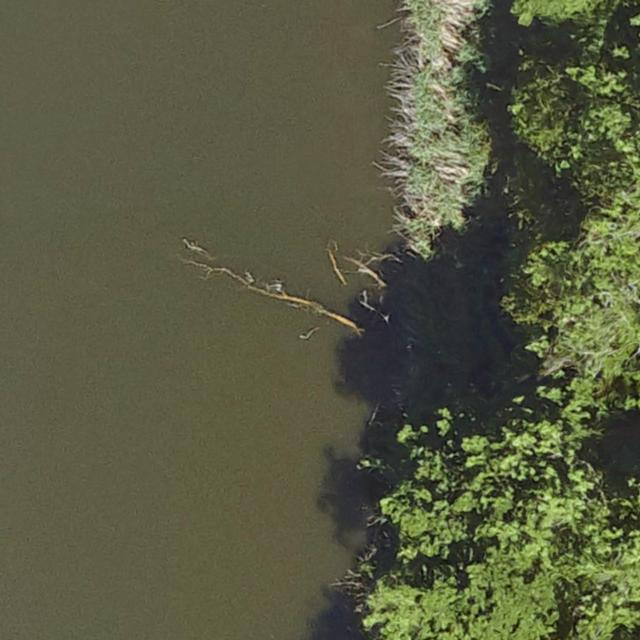tree: (360, 423, 640, 640), (508, 59, 640, 413)
